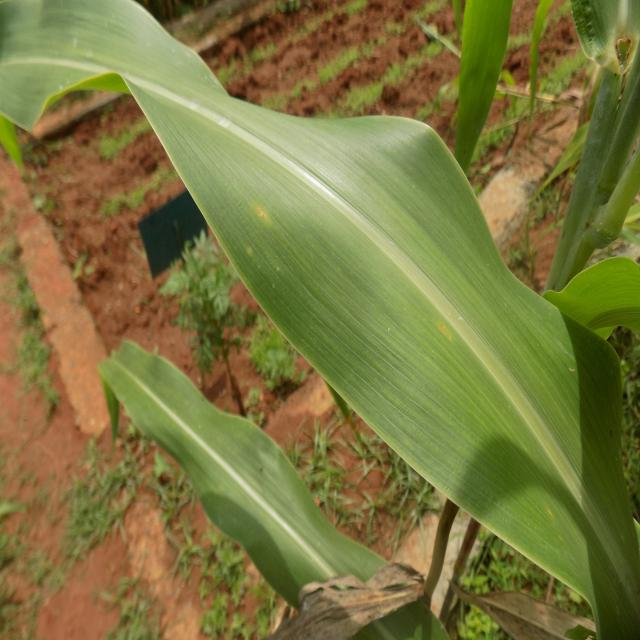millet_healthy: (0, 1, 640, 639), (100, 335, 454, 640), (453, 0, 640, 341)
millet_rust: (268, 550, 440, 640), (457, 590, 640, 638)
